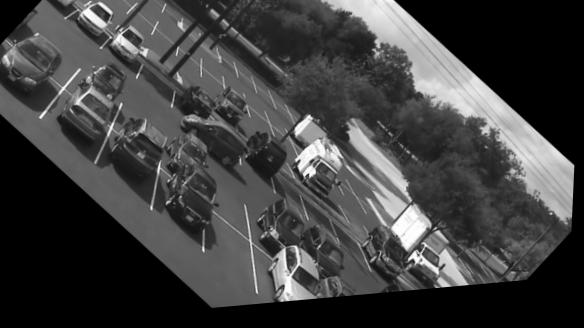empty: (210, 216, 261, 298), (134, 64, 177, 113), (44, 24, 90, 68), (337, 231, 370, 275), (304, 202, 338, 241), (220, 180, 247, 229), (211, 125, 238, 167), (128, 100, 162, 132), (338, 182, 365, 217), (278, 182, 306, 214), (150, 28, 176, 61), (125, 10, 154, 39), (177, 51, 203, 83), (132, 4, 161, 29), (178, 39, 202, 68), (250, 113, 274, 141), (274, 131, 297, 160), (157, 21, 180, 47), (102, 0, 133, 19), (201, 70, 224, 95), (352, 279, 376, 302), (203, 58, 224, 84), (247, 97, 269, 121), (270, 113, 290, 139), (225, 74, 244, 101), (161, 4, 181, 29), (220, 49, 236, 78), (274, 102, 293, 125), (144, 0, 167, 18), (240, 70, 255, 96), (258, 87, 273, 110), (242, 125, 264, 139), (185, 77, 201, 92), (124, 0, 141, 8)
occupied: (0, 30, 67, 100), (110, 119, 168, 193), (57, 80, 118, 150), (167, 165, 219, 241), (264, 250, 325, 308), (361, 233, 417, 292), (294, 142, 344, 206), (240, 136, 288, 193), (301, 227, 348, 284), (257, 203, 306, 255), (166, 137, 208, 177), (179, 88, 216, 131), (213, 90, 250, 130), (75, 3, 113, 40), (109, 27, 144, 67), (92, 66, 126, 97), (319, 283, 360, 305), (49, 0, 75, 12)
